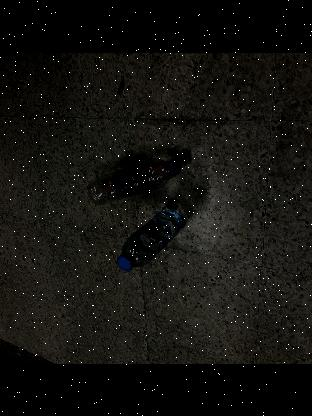Plastic Bottle: (88, 156, 182, 204), (116, 206, 186, 270)
